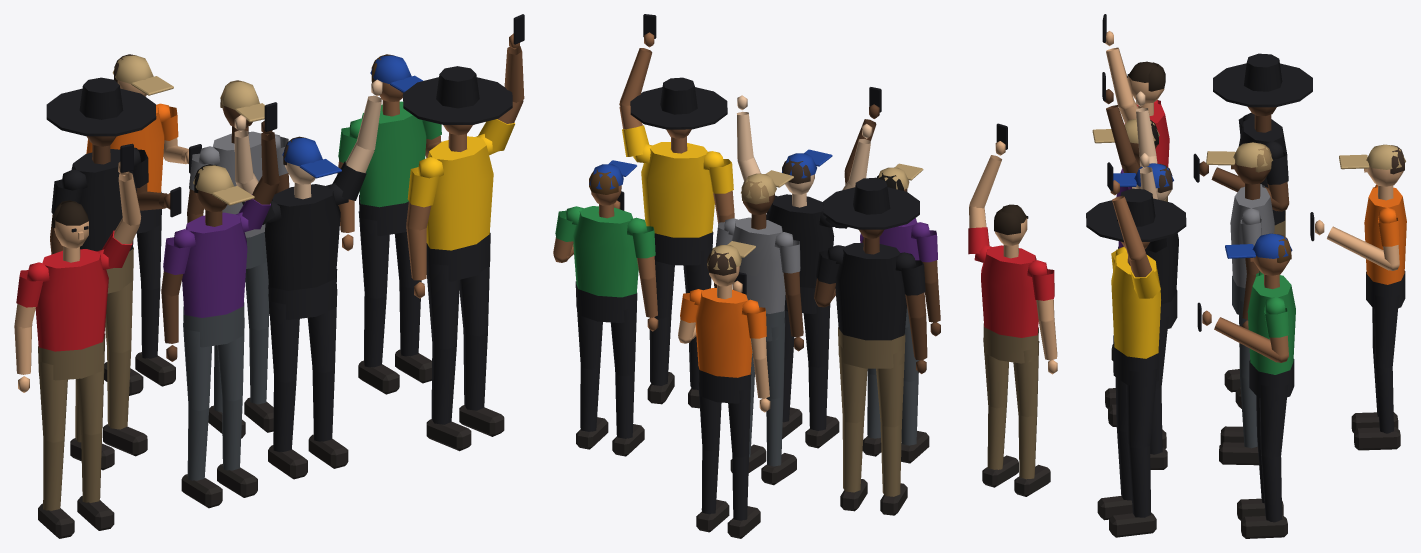
The model's file is crowd_h.dae.
3 renders of one model, left to right at view 1: azimuth 30°, elevation 25°; view 2: azimuth 150°, elevation 25°; view 3: azimuth 270°, elevation 25°, orthographic. The views are drawn at different scales.
Visible parts, largest first — view 1: marker; view 2: marker; view 3: marker.
Part boxes in pixels (x1,y1,x2,y2): marker: (14, 14, 524, 538); marker: (553, 14, 1057, 538); marker: (1086, 14, 1406, 538).
Size of the model in its own units: 2.75 by 1.67 by 2.19.
Materials: 1 (1 with a texture image).
